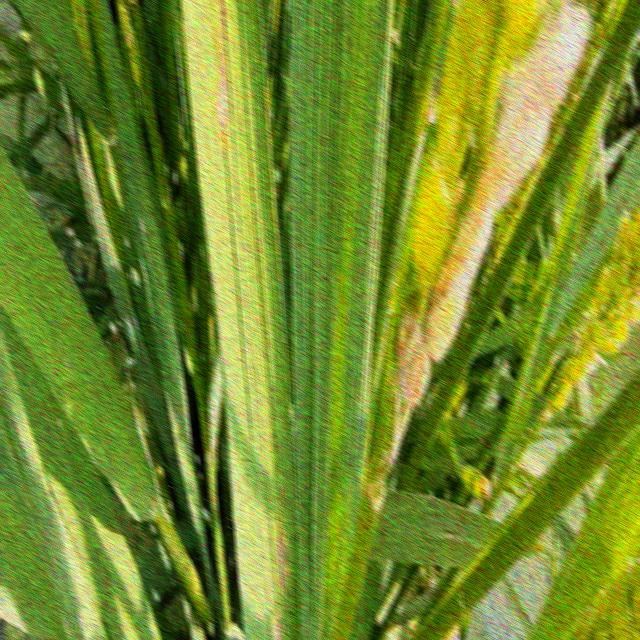LEAF BLAST: (216, 51, 228, 136), (276, 522, 288, 592), (272, 613, 282, 640), (219, 0, 225, 33), (218, 109, 222, 122)
